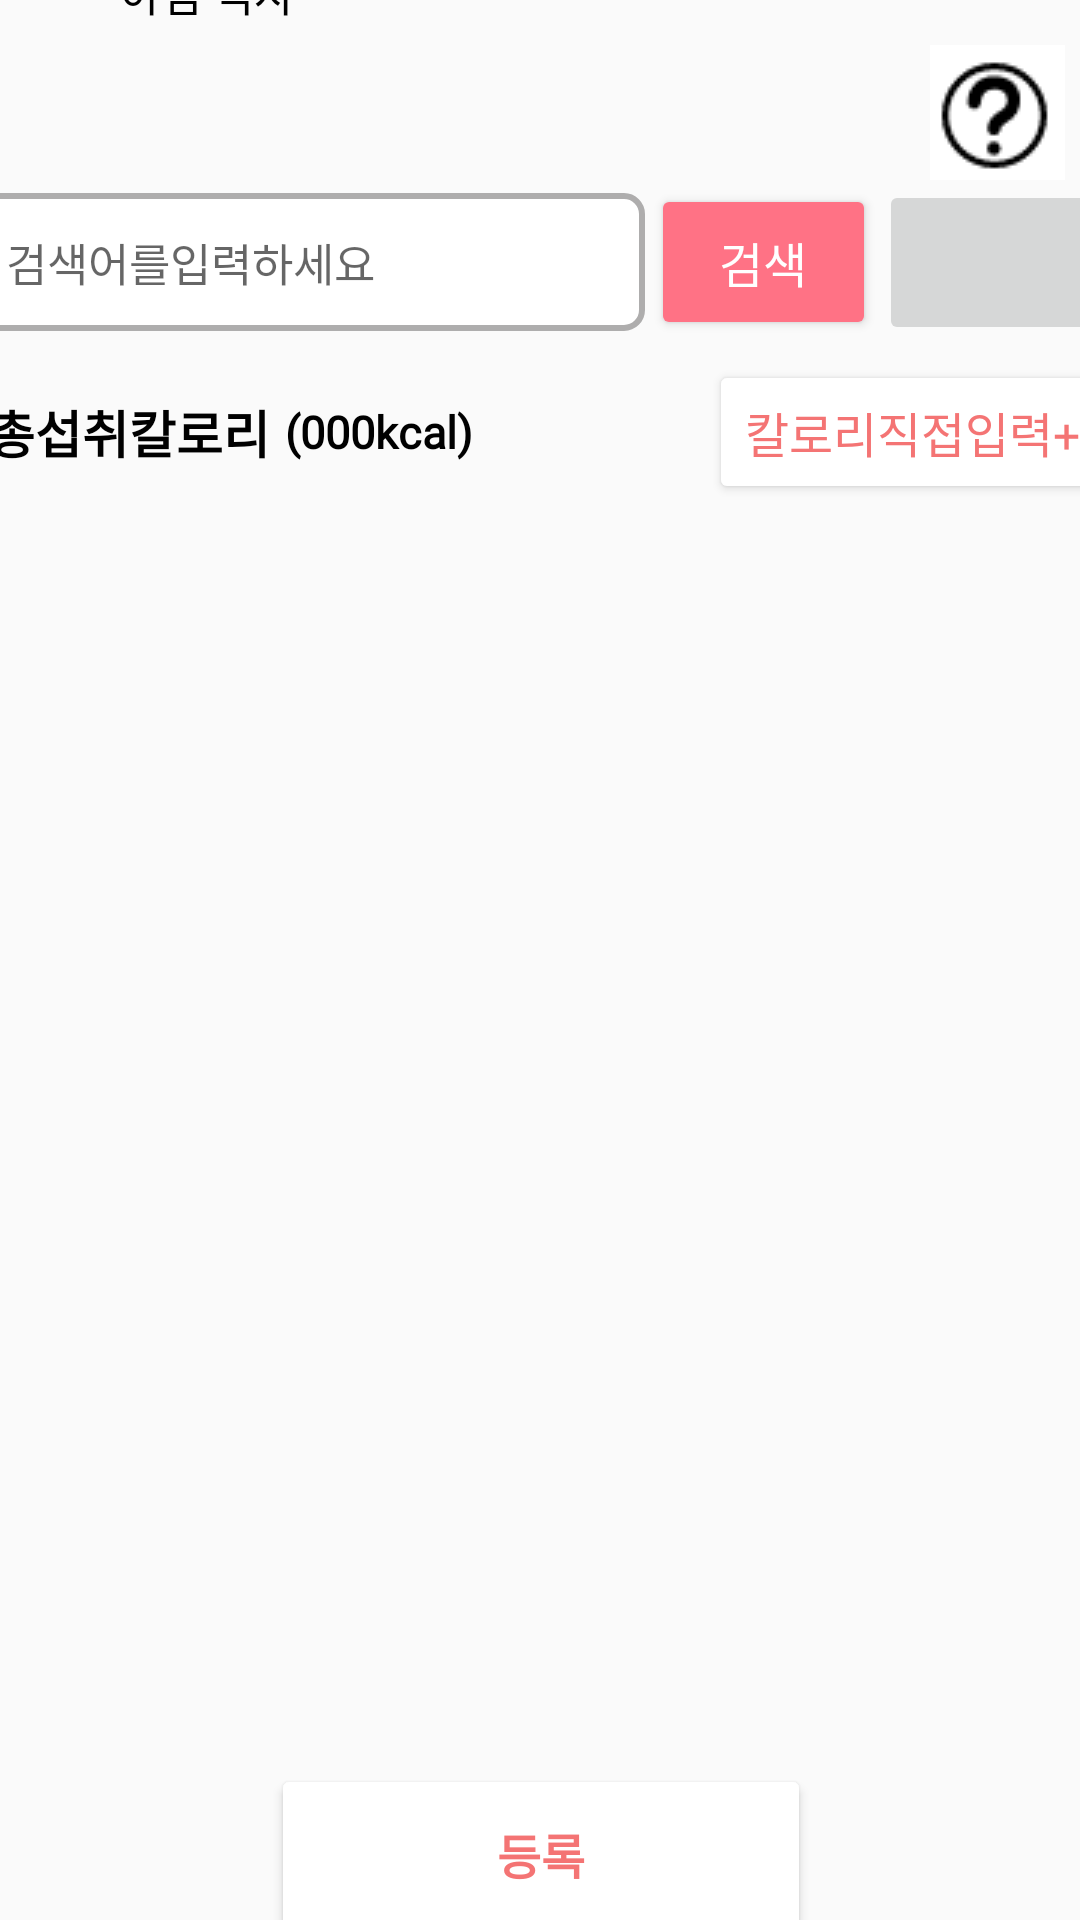

Screen size 1080 × 1920. Icon name, then its box in pixels as (x1, y1, x2, y2):
question: (941, 62, 1048, 169)
